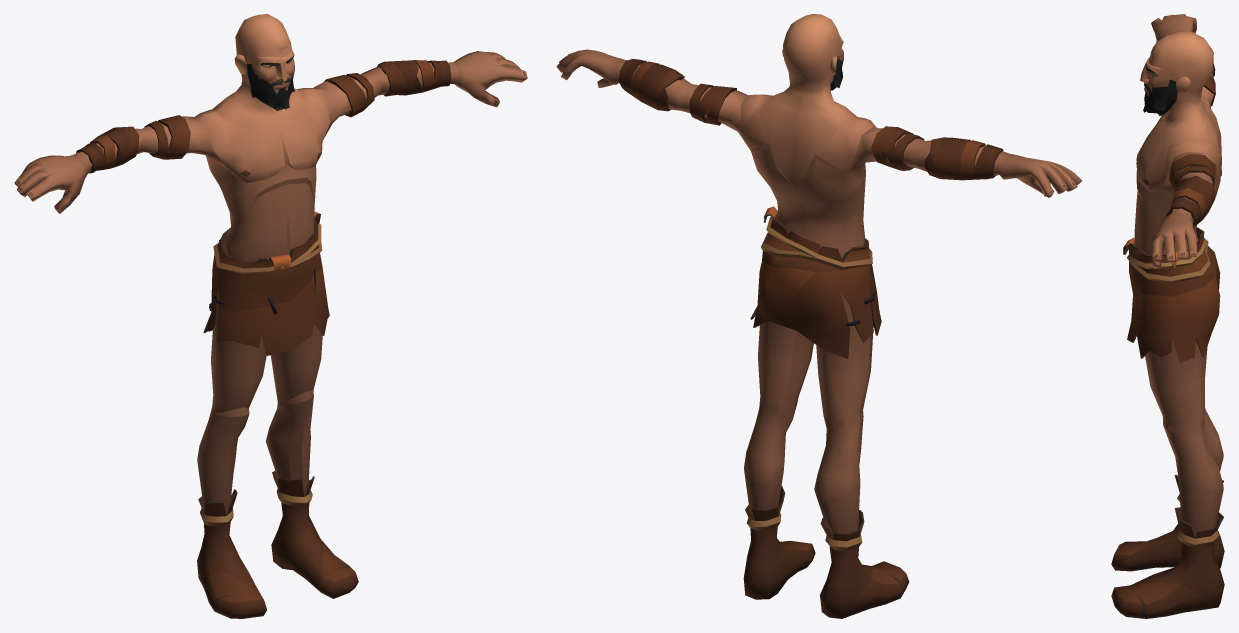
Rendered from AvatarSimple.fbx.
The picture shows the model from 3 angles, left to right: view 1: azimuth 30°, elevation 25°; view 2: azimuth 150°, elevation 25°; view 3: azimuth 270°, elevation 25°; orthographic projection. The views are drawn at different scales.
Parts seen in each view (by area): view 1: Model; view 2: Model; view 3: Model.
Boxes of the visible parts, x1,y1,x2,y2 form: Model: (14,14,527,618); Model: (556,14,1082,618); Model: (1111,14,1224,618).
Bounding box in the file's own units: 160 × 171 × 31.85.
